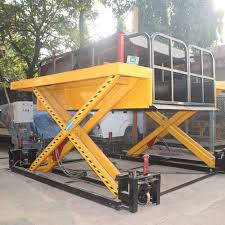Scissor Lift: (8, 29, 218, 213)
